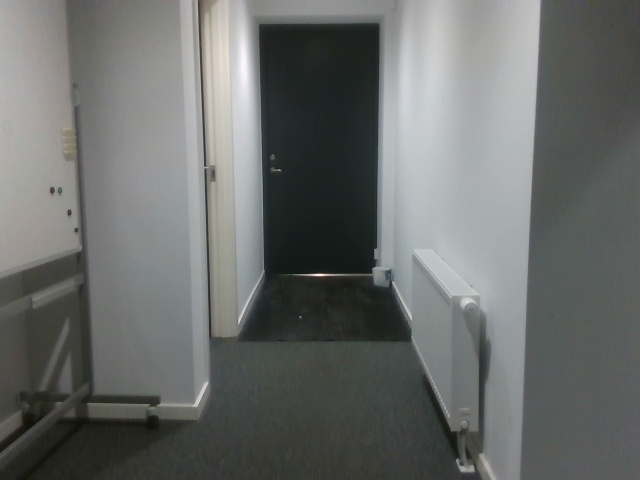alfa: (204, 300, 222, 330)
